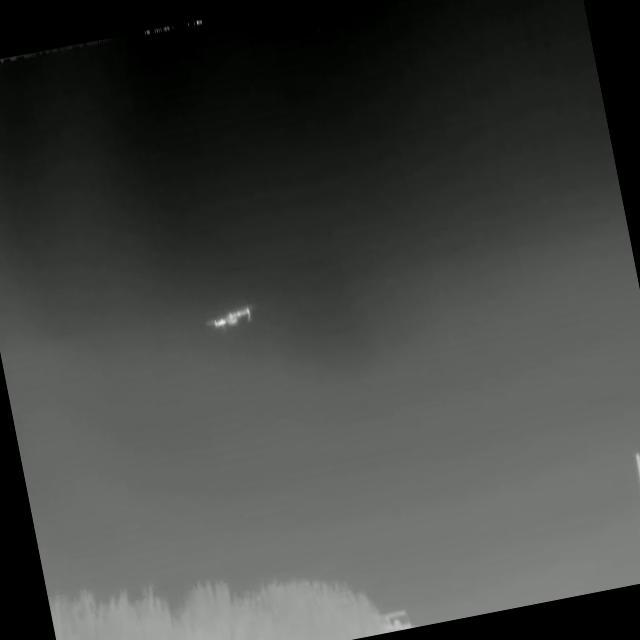DRONE: (201, 294, 264, 342)
